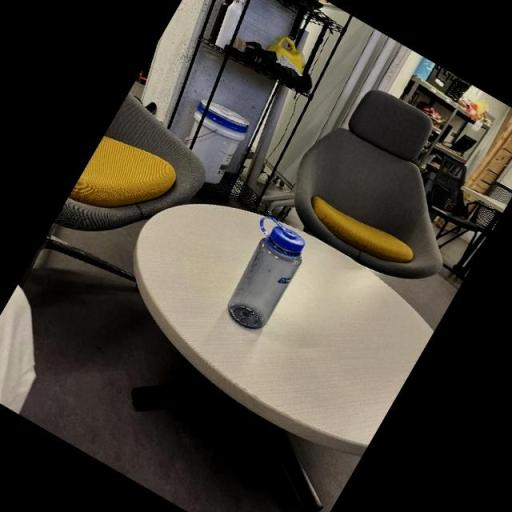bottle: (210, 213, 314, 337)
